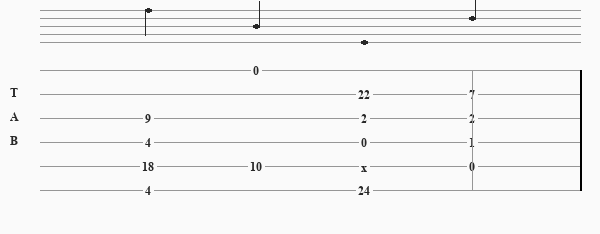0: (253, 64, 263, 77), (361, 136, 371, 149), (469, 160, 479, 173)
1: (469, 136, 479, 149)
10: (250, 160, 266, 173)
18: (142, 160, 158, 173)
2: (361, 112, 371, 125), (469, 112, 479, 125)
22: (358, 88, 374, 101)
24: (358, 184, 374, 197)
4: (145, 184, 155, 197), (145, 136, 155, 149)
7: (469, 88, 479, 101)
9: (145, 112, 155, 125)
x: (361, 161, 371, 171)
